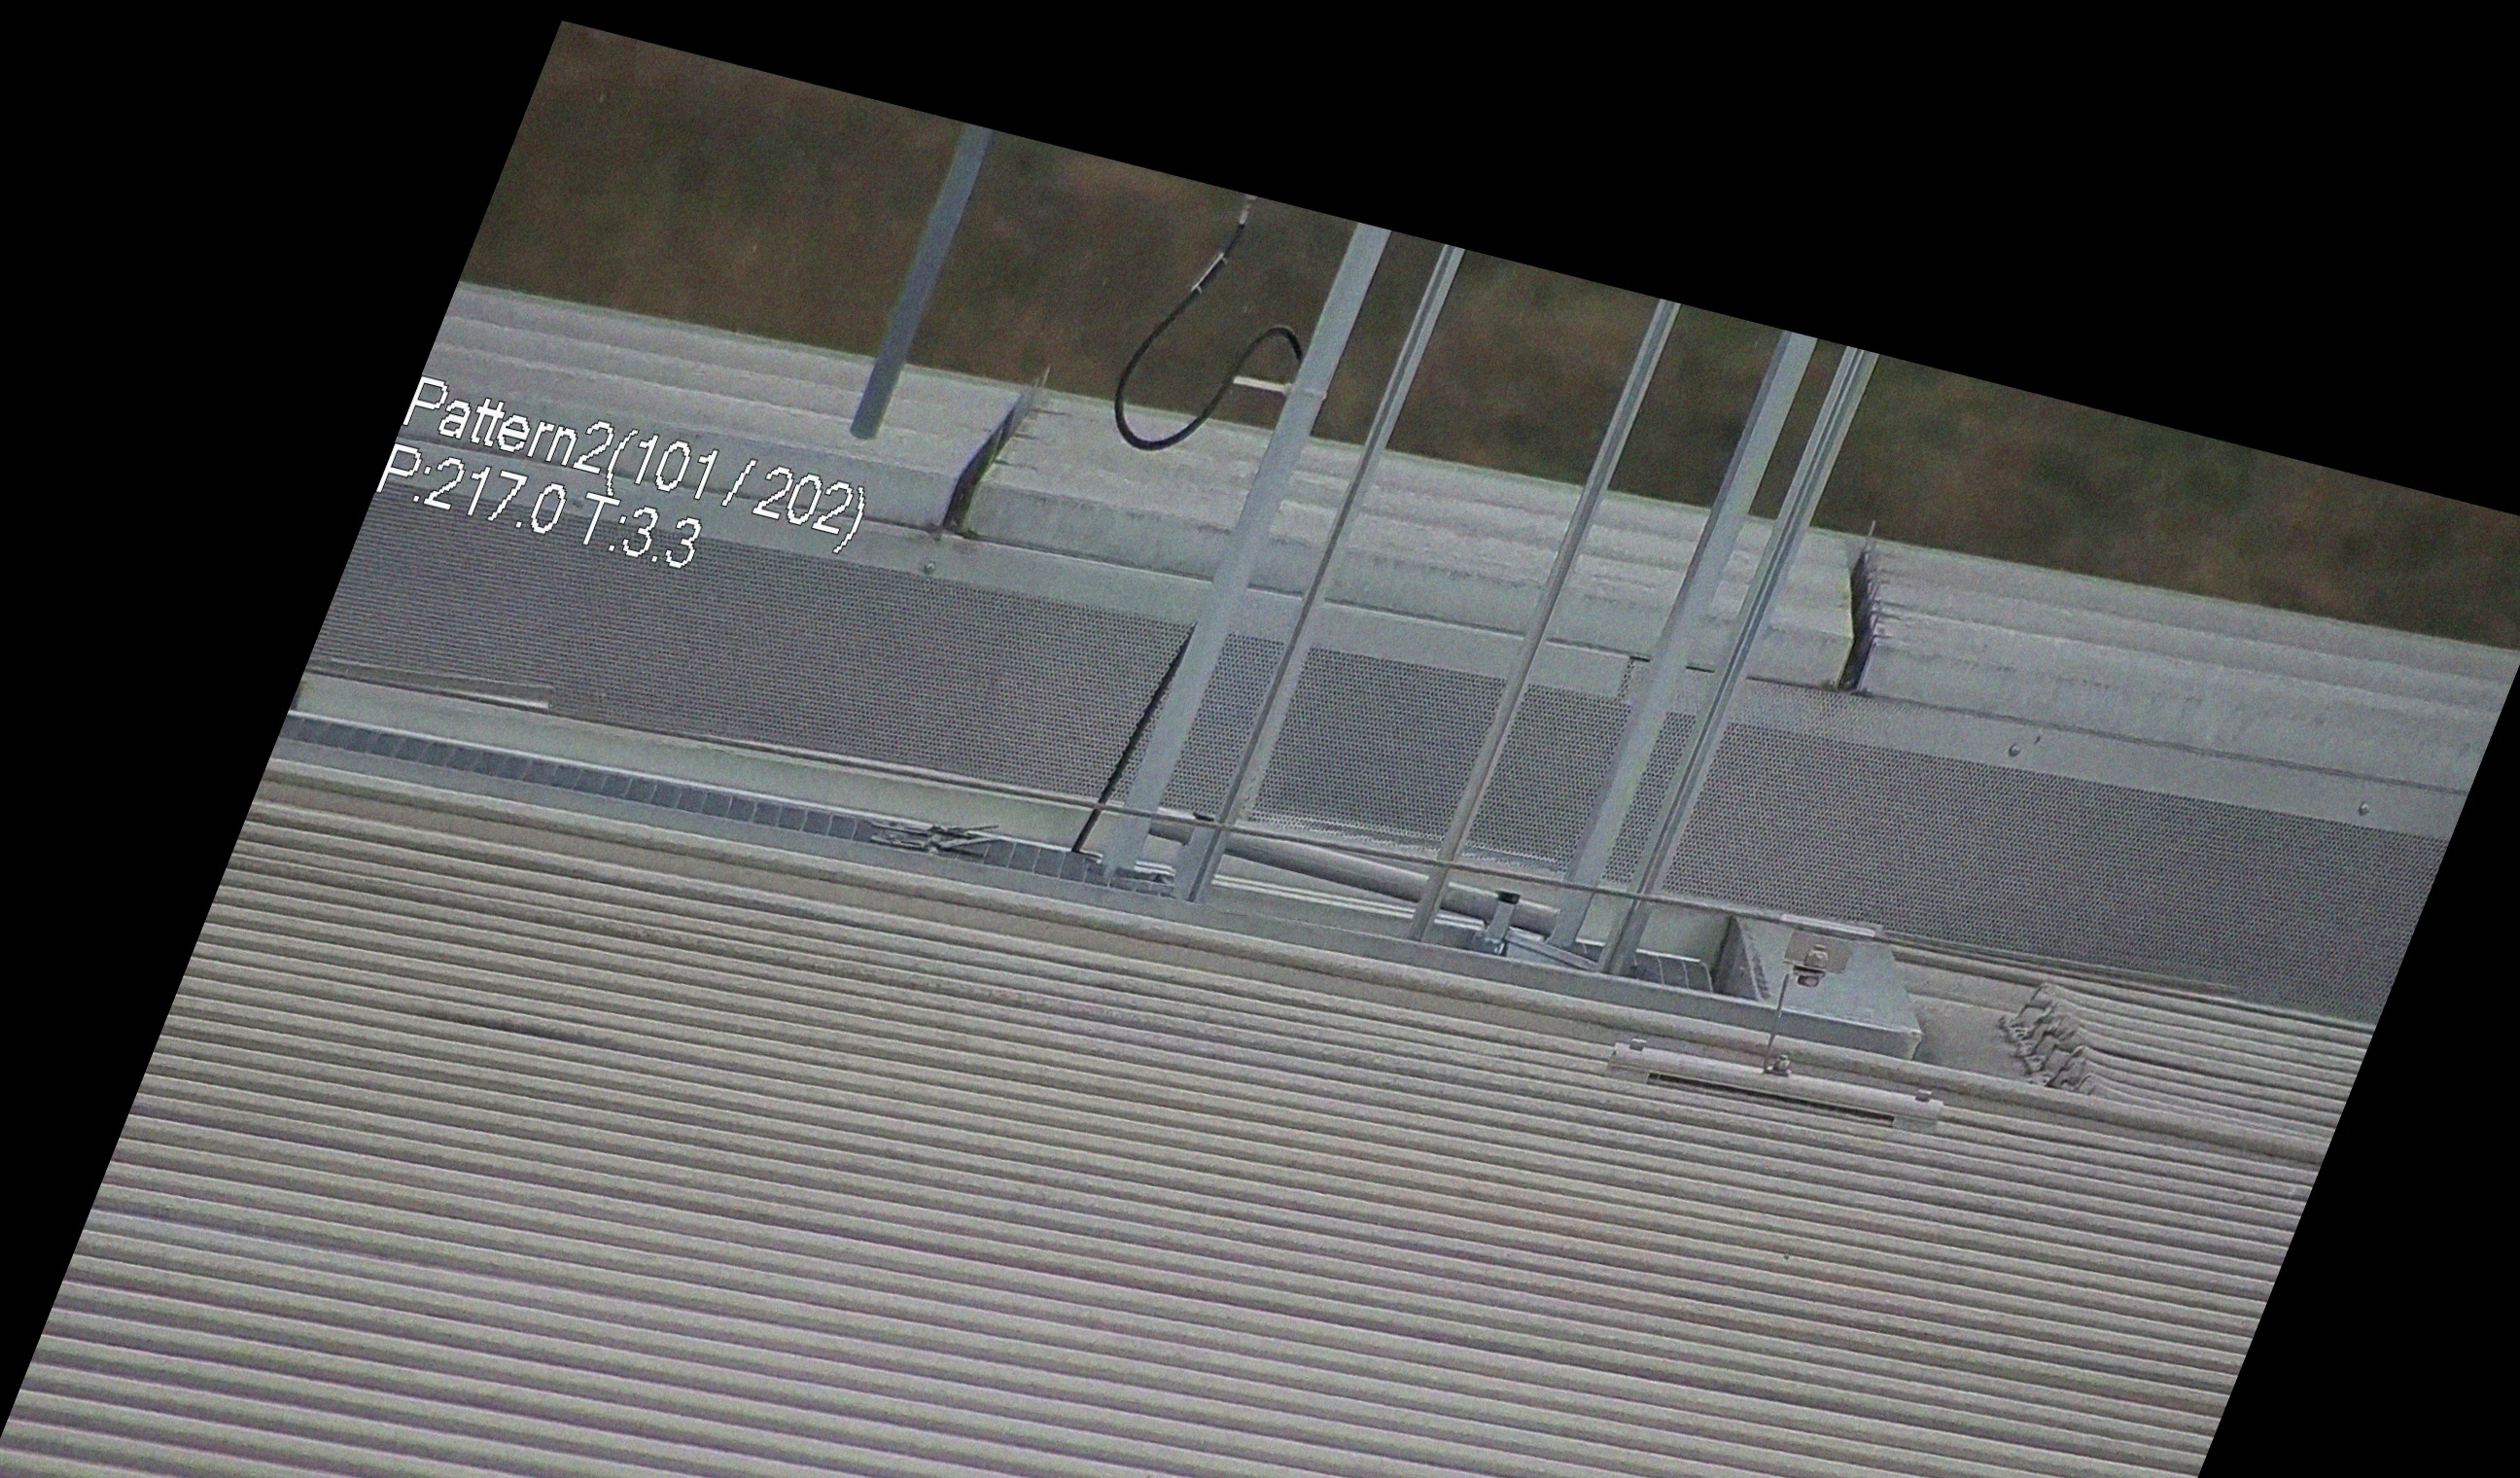Other: (1787, 503, 1952, 699)
